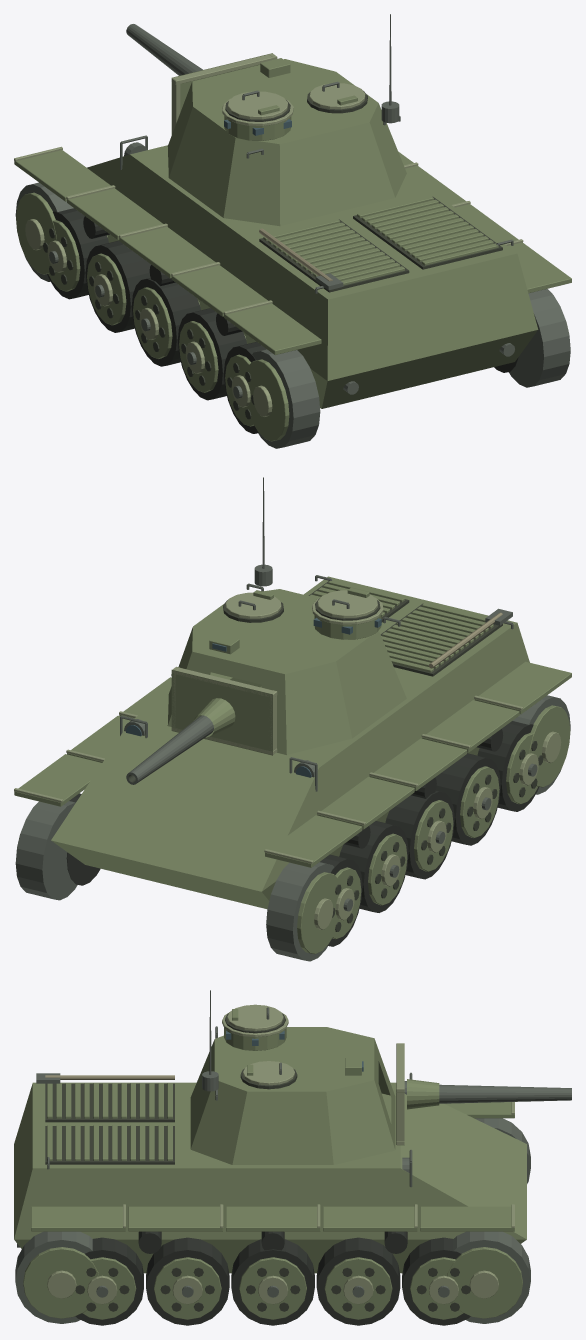
3 views of the same model, one above another, from view 1: azimuth 30°, elevation 25°; view 2: azimuth 150°, elevation 25°; view 3: azimuth 270°, elevation 25° (orthographic). The views are drawn at different scales.
Parts seen in each view (by area): view 1: Cosmetic_hull_Olive, Cosmetic_hull_Steel, Cosmetic_hull_Rubber, Armor_turret_wall_4, Armor_hull_1_4, Armor_hull_1_5, Armor_hull_1_6, Armor_turret_roof, Armor_turret_wall_6, Cosmetic_hull_Edge, Armor_turret_wall_5, Armor_hull_1_7 (+16 smaller); view 2: Cosmetic_hull_Olive, Armor_hull_1_0, Armor_hull_1_1, Cosmetic_hull_Steel, Cosmetic_hull_Rubber, Armor_turret_roof, Armor_hull_1_6, Armor_turret_wall_7, Cosmetic_hull_Edge, Armor_turret_wall_6, Armor_hull_1_7, Cosmetic_turret_Edge (+18 smaller); view 3: Cosmetic_hull_Olive, Cosmetic_hull_Rubber, Armor_hull_1_3, Armor_hull_1_2, Cosmetic_hull_Dark, Armor_turret_roof, Armor_turret_wall_2, Cosmetic_hull_Steel, Armor_hull_1_0, Armor_hull_1_1, Cosmetic_hull_Edge, Armor_turret_wall_1 (+18 smaller).
Part boxes in pixels (x1,y1,x2,y2): Cosmetic_hull_Olive: (14, 150, 571, 441); Cosmetic_hull_Steel: (15, 135, 570, 448); Cosmetic_hull_Rubber: (47, 208, 518, 433); Armor_turret_wall_4: (279, 122, 394, 225); Armor_hull_1_4: (423, 253, 538, 355); Armor_hull_1_5: (327, 276, 432, 380); Armor_hull_1_6: (192, 205, 327, 380); Armor_turret_roof: (192, 59, 378, 144); Armor_turret_wall_6: (169, 107, 235, 217); Cosmetic_hull_Edge: (14, 146, 523, 416); Armor_turret_wall_5: (223, 138, 280, 226); Armor_hull_1_7: (87, 154, 198, 244); Cosmetic_hull_Olive: (14, 580, 571, 953); Armor_hull_1_0: (156, 744, 318, 891); Armor_hull_1_1: (51, 726, 223, 865); Cosmetic_hull_Steel: (15, 575, 570, 961); Cosmetic_hull_Rubber: (66, 721, 538, 946); Armor_turret_roof: (192, 589, 370, 673); Armor_hull_1_6: (388, 623, 529, 757); Armor_turret_wall_7: (285, 661, 352, 754); Cosmetic_hull_Edge: (14, 674, 561, 929); Armor_turret_wall_6: (336, 630, 406, 738); Armor_hull_1_7: (262, 717, 393, 891); Cosmetic_turret_Edge: (225, 590, 383, 624); Cosmetic_hull_Olive: (23, 1083, 522, 1319); Cosmetic_hull_Rubber: (75, 1231, 470, 1325); Armor_hull_1_3: (14, 1168, 272, 1239); Armor_hull_1_2: (273, 1168, 526, 1239); Cosmetic_hull_Dark: (45, 1083, 470, 1311); Armor_turret_roof: (214, 1027, 374, 1091); Armor_turret_wall_2: (232, 1091, 333, 1164); Cosmetic_hull_Steel: (15, 1072, 530, 1323); Armor_hull_1_0: (404, 1094, 526, 1191); Armor_hull_1_1: (400, 1128, 526, 1239); Cosmetic_hull_Edge: (47, 1102, 514, 1304); Armor_turret_wall_1: (326, 1080, 395, 1164).
Size of the model in its own units: 3.06 by 3.18 by 5.34.
